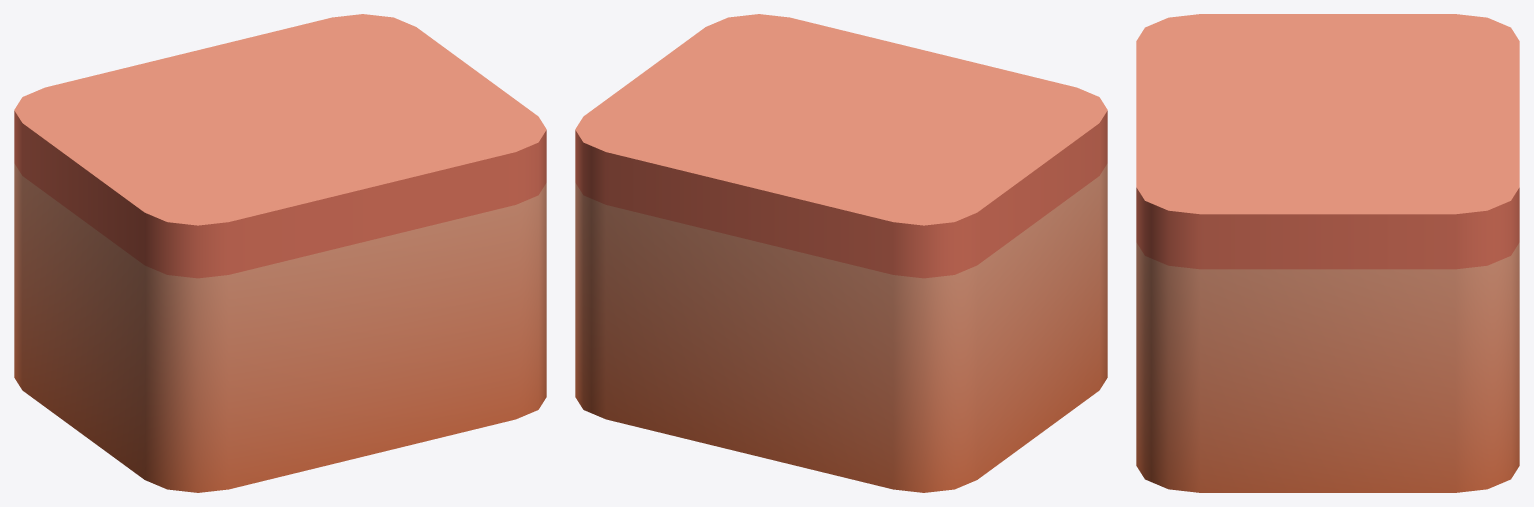
The model's file is table.fbx.
3 renders of one model, left to right at view 1: azimuth 30°, elevation 25°; view 2: azimuth 150°, elevation 25°; view 3: azimuth 270°, elevation 25°, orthographic. The views are drawn at different scales.
Visible parts, largest first — view 1: table; view 2: table; view 3: table.
Part boxes in pixels (left/top/right/bottom): table: left=14, top=14, right=546, bottom=492; table: left=575, top=14, right=1107, bottom=492; table: left=1136, top=14, right=1519, bottom=492.
Bounding box in the file's own units: 1.28 × 0.8311 × 1.04.
